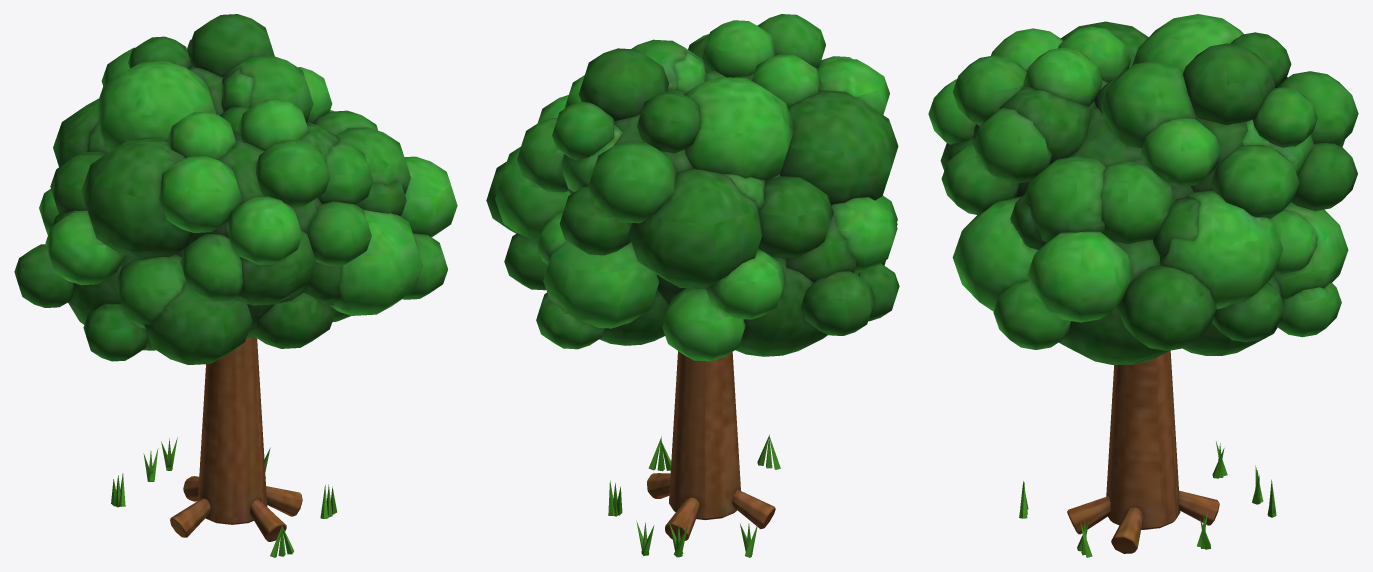
Rendered from wax_apple_tree.glb.
The picture shows the model from 3 angles, left to right: view 1: azimuth 30°, elevation 25°; view 2: azimuth 150°, elevation 25°; view 3: azimuth 270°, elevation 25°; orthographic projection. The views are drawn at different scales.
Visible parts, largest first — view 1: crown, wax_apple_tree; view 2: crown, wax_apple_tree; view 3: crown, wax_apple_tree.
Boxes of the visible parts, <box> form: crown: <box>14,14,457,364</box>; wax_apple_tree: <box>111,337,337,557</box>; crown: <box>486,14,899,361</box>; wax_apple_tree: <box>608,351,780,557</box>; crown: <box>928,14,1358,364</box>; wax_apple_tree: <box>1019,350,1276,557</box>.
Bounding box in the file's own units: 1.13 × 1.31 × 1.03.
1 material, 1 textured.
